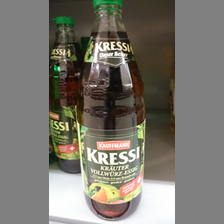vinegar: (79, 1, 148, 221), (51, 15, 82, 175)
